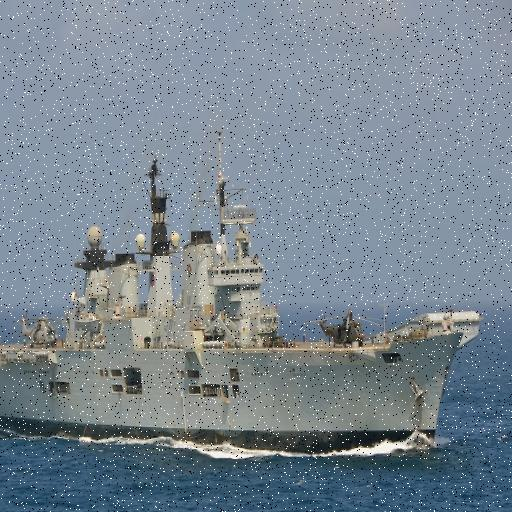Portanaves: (1, 124, 485, 451)
